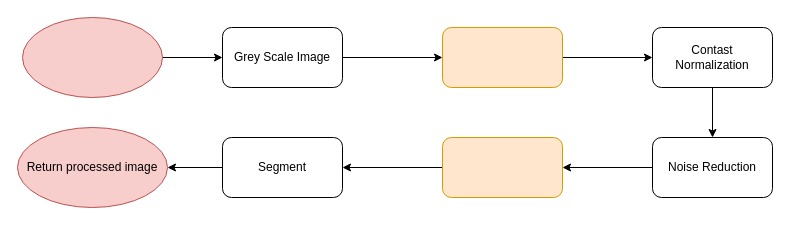
Some shapes in this 790 by 225 pixel diagram are drawn without their labels. The centre of each missing label's shape, as x and y in pixels:
Deskew: (x=502, y=167)
Distortion Correction: (x=502, y=57)
Preprocess (colorImage): (x=92, y=57)
